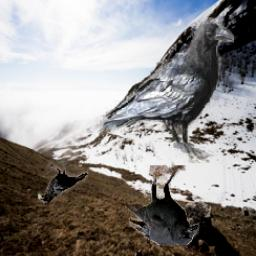Crow: (100, 18, 234, 164), (126, 165, 200, 245), (38, 160, 88, 203)
